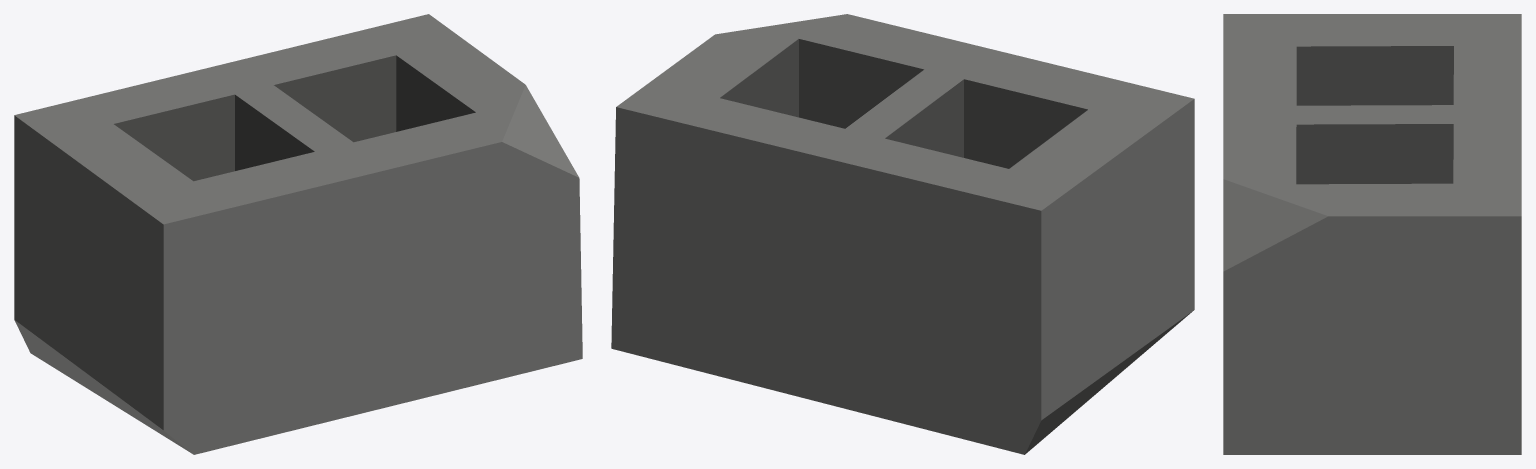
File: SM_Prop_Cinderblock_01.glb
3 renders of one model, left to right at view 1: azimuth 30°, elevation 25°; view 2: azimuth 150°, elevation 25°; view 3: azimuth 270°, elevation 25°, orthographic. The views are drawn at different scales.
Parts seen in each view (by area): view 1: SM_Prop_Cinderblock_01; view 2: SM_Prop_Cinderblock_01; view 3: SM_Prop_Cinderblock_01.
Boxes of the visible parts, x1=… form: SM_Prop_Cinderblock_01: x1=14, y1=14, x2=582, y2=454; SM_Prop_Cinderblock_01: x1=611, y1=14, x2=1194, y2=454; SM_Prop_Cinderblock_01: x1=1223, y1=14, x2=1521, y2=454.
Size of the model in its own units: 0.4395 by 0.2424 by 0.2711.
1 material, 1 textured.
